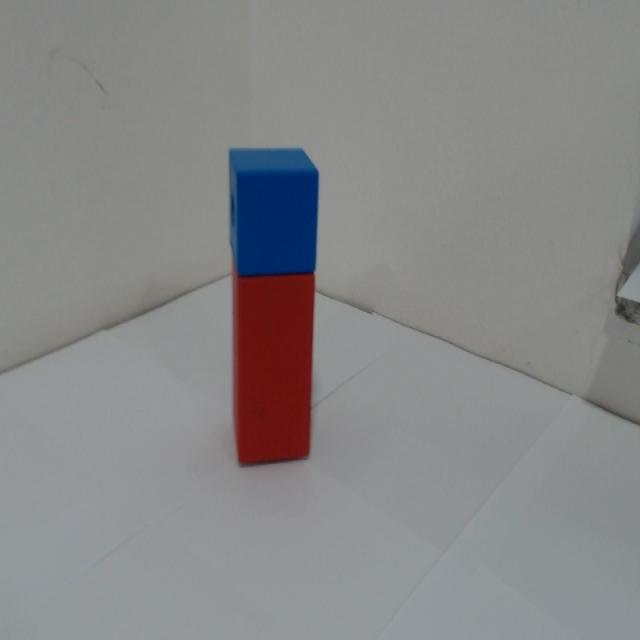cube: (220, 127, 335, 275)
